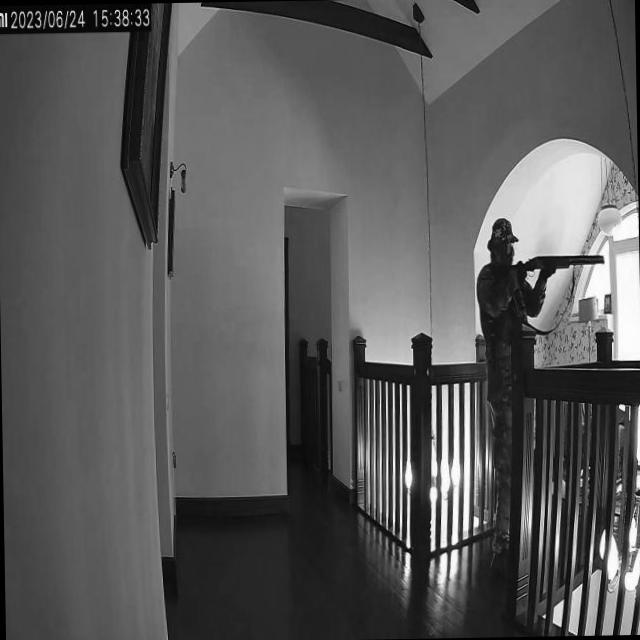gun: (513, 252, 608, 274)
person with a gun: (476, 215, 614, 568)
